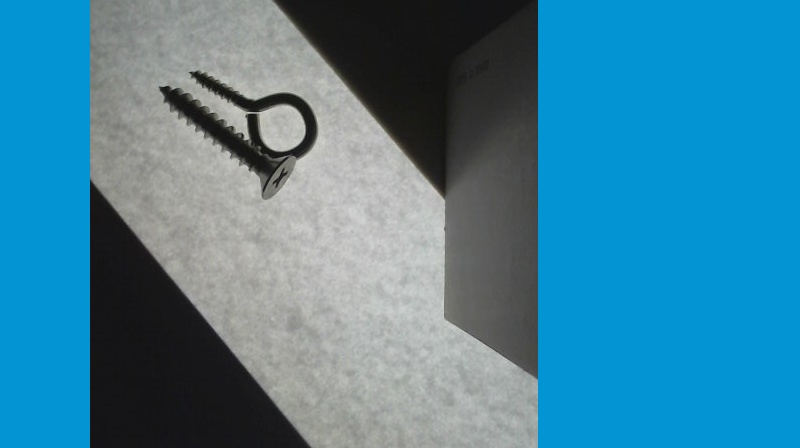O001: (186, 66, 318, 163)
S001: (156, 81, 299, 200)
